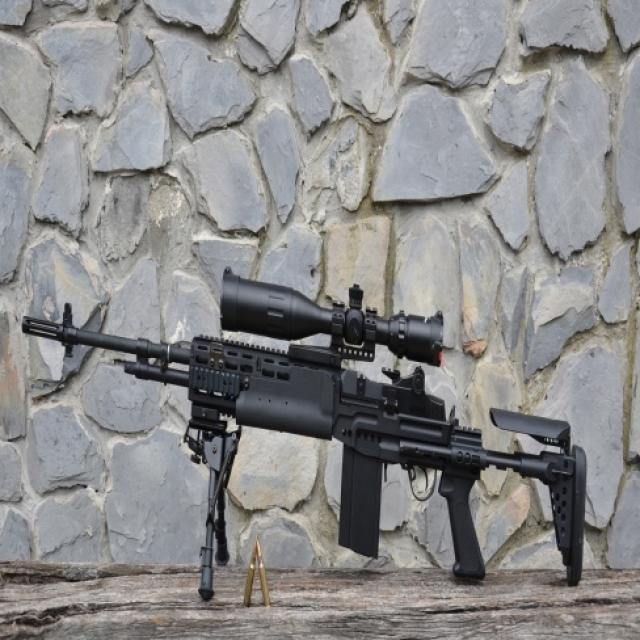Gun: (17, 238, 598, 640)
